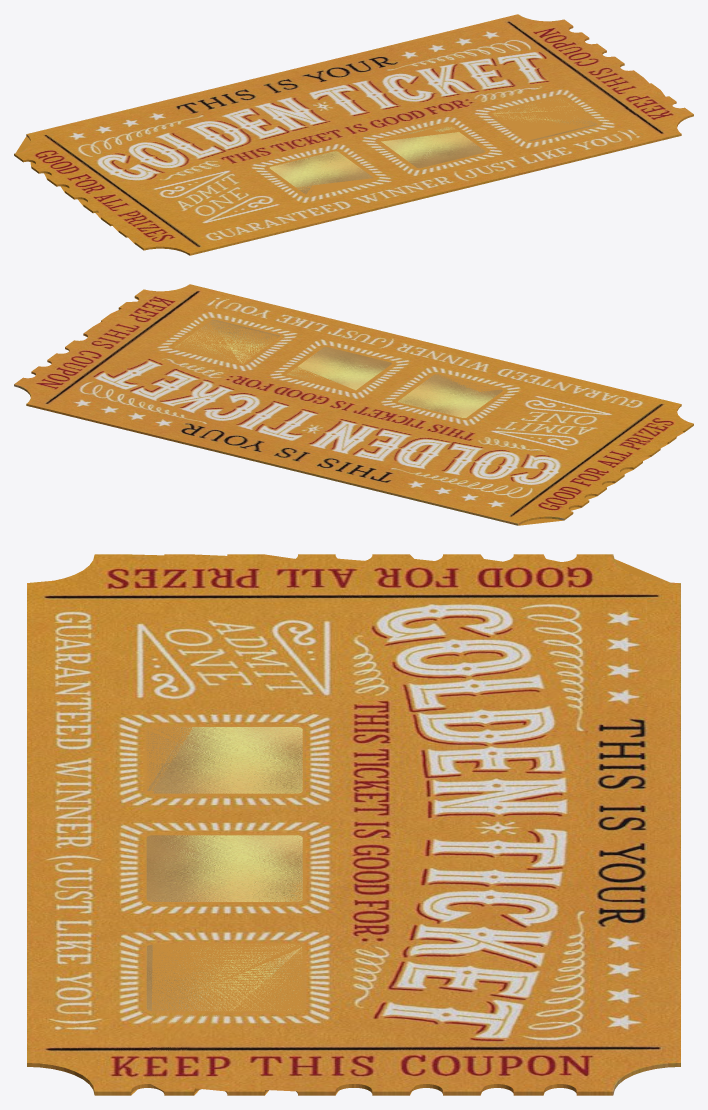
File: ticket.fbx
3 views of the same model, one above another, from view 1: azimuth 30°, elevation 25°; view 2: azimuth 150°, elevation 25°; view 3: azimuth 270°, elevation 25° (orthographic). The views are drawn at different scales.
Visible parts, largest first — view 1: Ticket, zone 2, zone 1, zone 3; view 2: Ticket, zone 1, zone 2, zone 3; view 3: Ticket, zone 2, zone 1, zone 3.
Boxes of the visible parts, x1,y1,x2,y2 form: Ticket: (14, 14, 693, 255); zone 2: (381, 126, 485, 168); zone 1: (269, 151, 373, 194); zone 3: (493, 98, 597, 140); Ticket: (14, 284, 693, 525); zone 1: (398, 374, 502, 417); zone 2: (287, 347, 391, 390); zone 3: (175, 319, 279, 363); Ticket: (27, 554, 680, 1095); zone 2: (146, 835, 302, 901); zone 1: (146, 727, 302, 793); zone 3: (146, 944, 302, 1011).
Size of the model in its own units: 93.07 by 0.3205 by 47.89.
